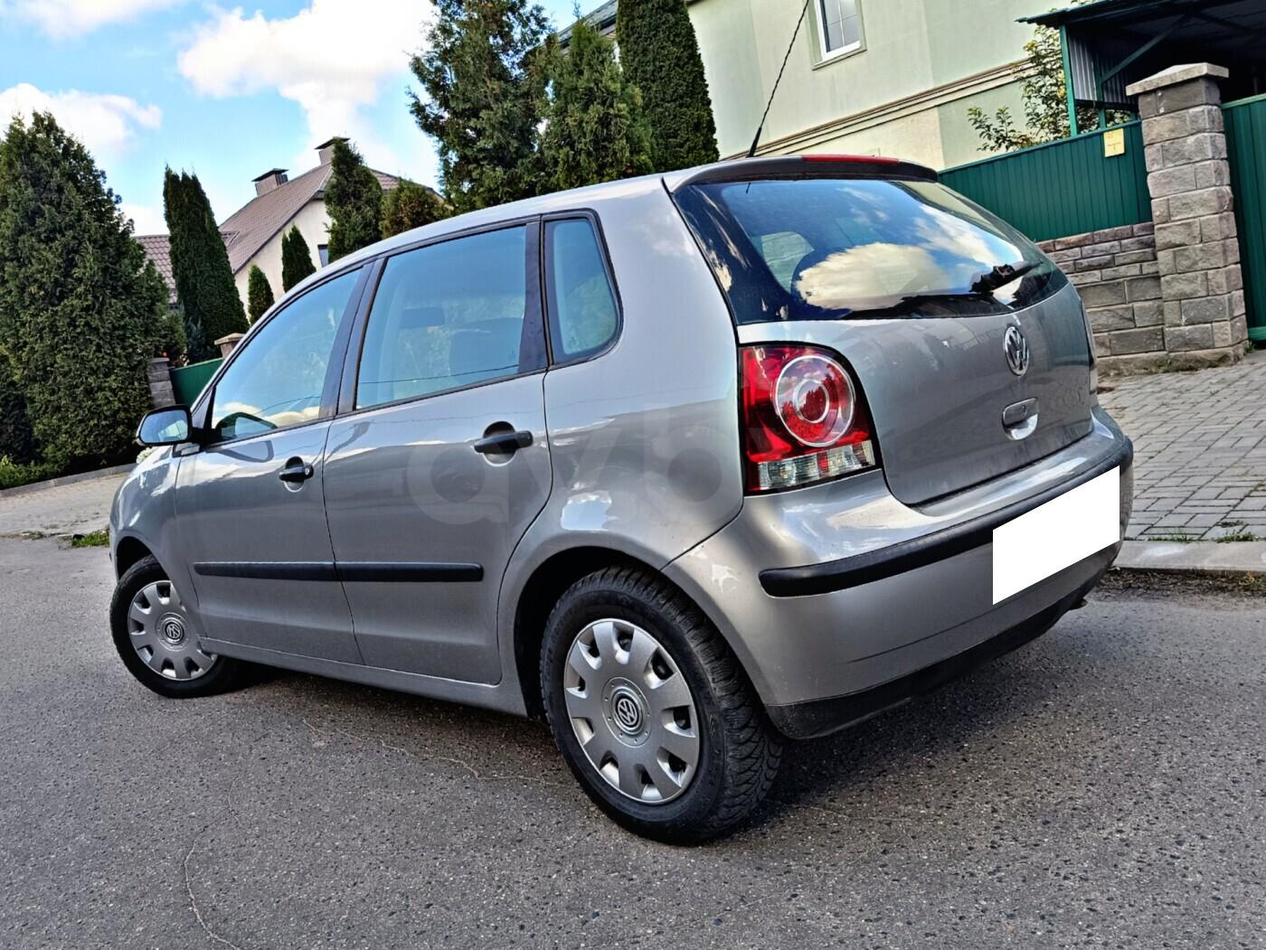Polo_2005-2009: (100, 155, 1142, 854)
